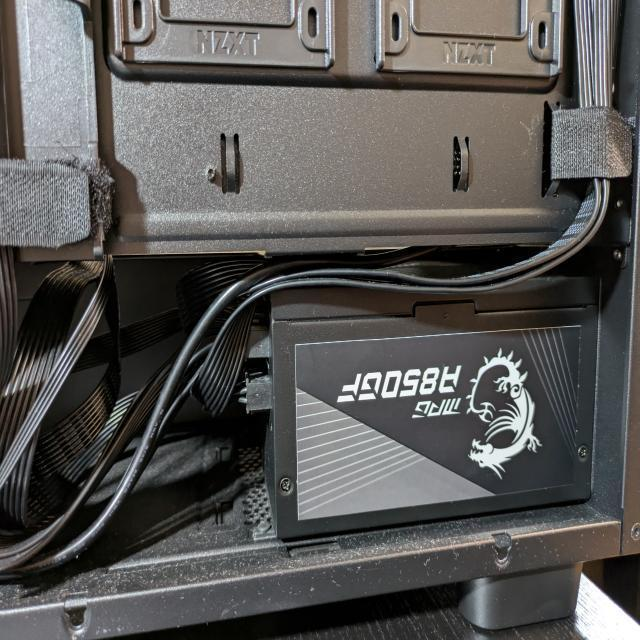PSU: (260, 248, 602, 543)
